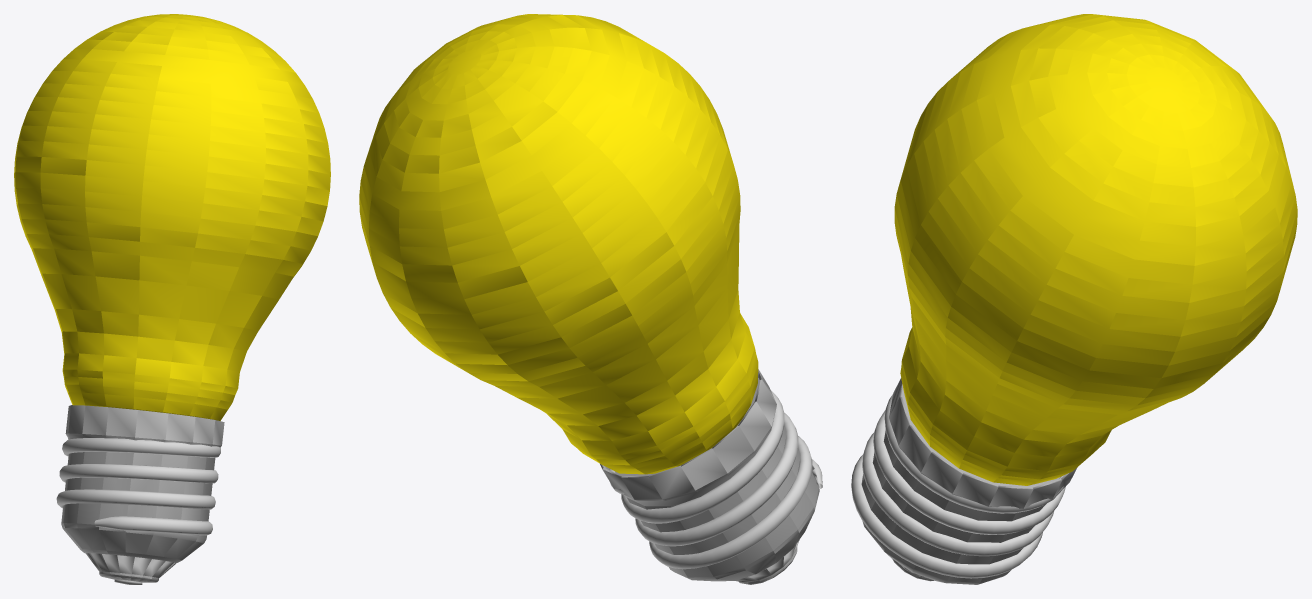
Rendered from LightBulb.FBX.
The picture shows the model from 3 angles, left to right: view 1: azimuth 30°, elevation 25°; view 2: azimuth 150°, elevation 25°; view 3: azimuth 270°, elevation 25°; orthographic projection. The views are drawn at different scales.
Visible parts, largest first — view 1: LightBulb; view 2: LightBulb; view 3: LightBulb.
Boxes of the visible parts, box(x1,y1,x2,y2) form: LightBulb: box(14, 14, 330, 584); LightBulb: box(359, 14, 822, 584); LightBulb: box(851, 14, 1297, 584).
Bounding box in the file's own units: 4.2 × 4.35 × 6.53.
Materials: 1 (1 with a texture image).
